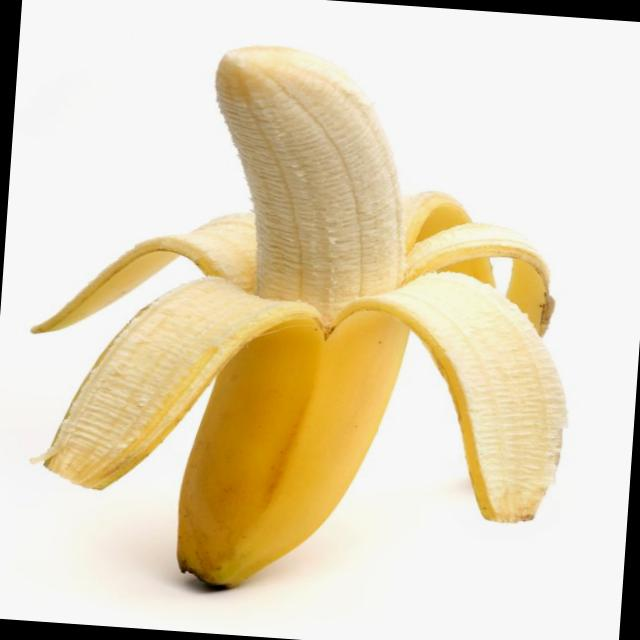banana: (164, 29, 408, 611)
